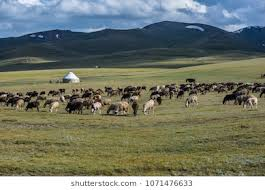sheep: (105, 102, 123, 116), (142, 99, 156, 115), (184, 94, 200, 108), (66, 101, 83, 114), (23, 101, 41, 113), (89, 100, 103, 115), (130, 100, 141, 117), (222, 93, 235, 106), (247, 96, 259, 109), (14, 98, 25, 112), (48, 101, 59, 114), (148, 90, 160, 100), (120, 93, 131, 102), (175, 90, 183, 98)
